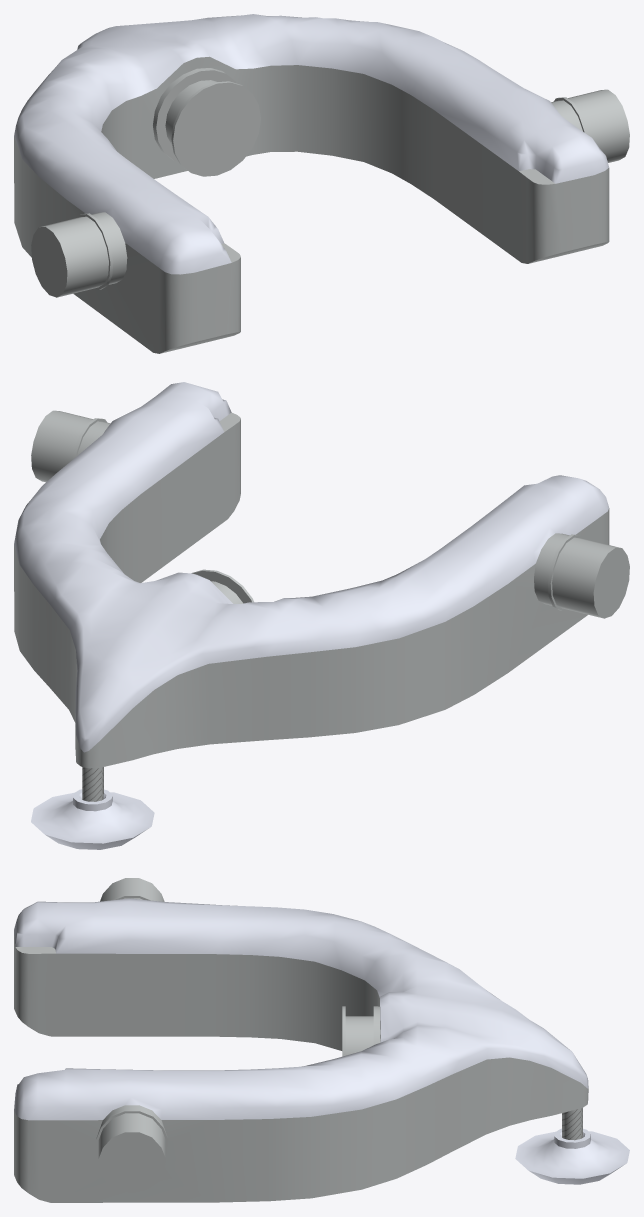
3 views of the same model, one above another, from view 1: azimuth 30°, elevation 25°; view 2: azimuth 150°, elevation 25°; view 3: azimuth 270°, elevation 25° (orthographic). The views are drawn at different scales.
Visible parts, largest first — view 1: base; view 2: base; view 3: base.
Boxes of the visible parts, box(x1,y1,x2,y2) form: base: box(14, 14, 629, 353); base: box(14, 382, 629, 849); base: box(14, 878, 629, 1202).
Size of the model in its own units: 0.5804 by 0.199 by 0.5945.
1 material, 1 textured.
